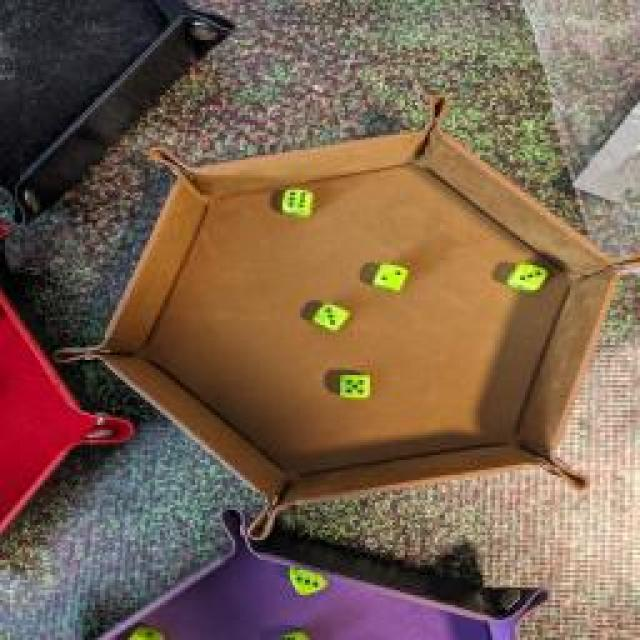dice_2: (374, 259, 408, 291)
dice_3: (310, 300, 358, 335), (285, 563, 333, 595), (508, 261, 552, 291)
dice_5: (335, 372, 377, 402)
dice_6: (280, 188, 320, 218)
